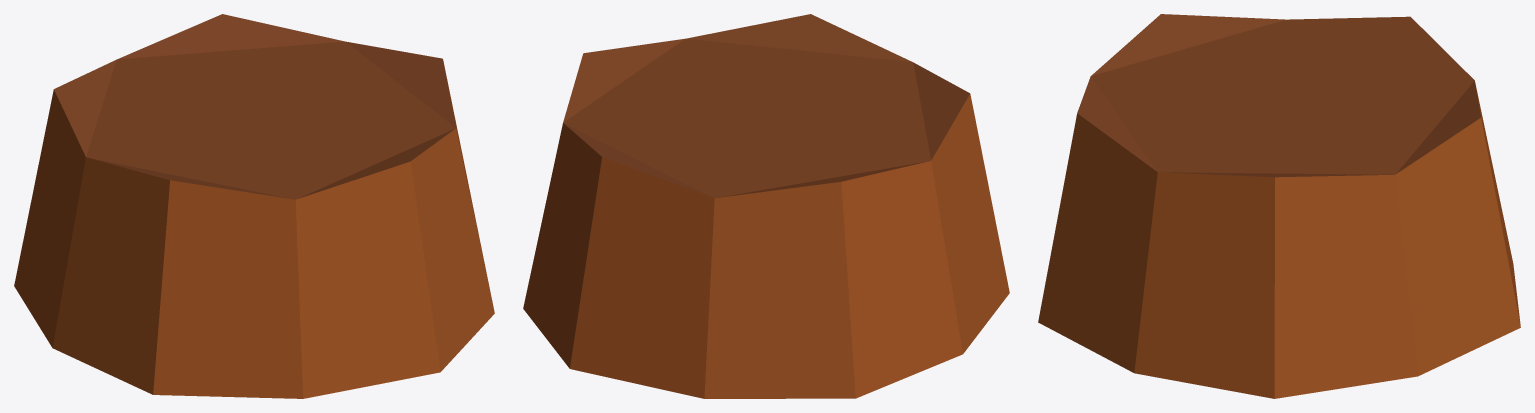
Rendered from LowPolyTree_Stump.fbx.
3 views of the same model, side by side, from view 1: azimuth 30°, elevation 25°; view 2: azimuth 150°, elevation 25°; view 3: azimuth 270°, elevation 25° (orthographic). The views are drawn at different scales.
Visible parts, largest first — view 1: Icosphere.002_Icosphere.005; view 2: Icosphere.002_Icosphere.005; view 3: Icosphere.002_Icosphere.005.
Boxes of the visible parts, box(x1,y1,x2,y2) form: Icosphere.002_Icosphere.005: box(14, 14, 494, 398); Icosphere.002_Icosphere.005: box(523, 14, 1009, 398); Icosphere.002_Icosphere.005: box(1038, 14, 1520, 398).
Size of the model in its own units: 37.37 by 17.33 by 36.43.
